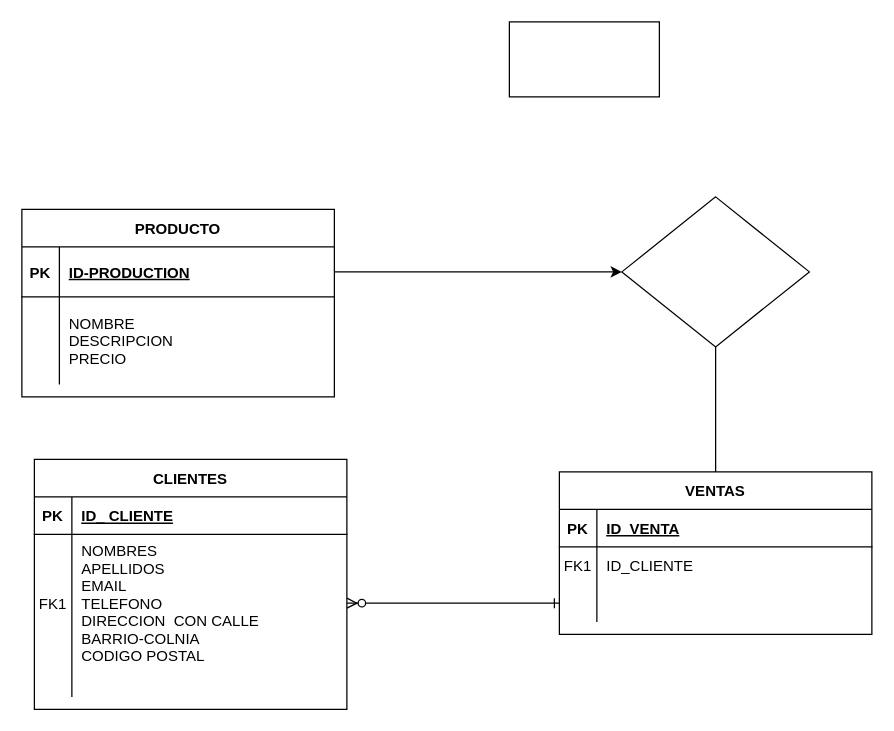
Image size: 894x731. Some labels were removed from this diagram. The box of each missing label's shape, as (x1, y1, x2, y2) in pixels:
ABARROTES: (508, 21, 659, 97)
ID_PRODUCTO ID_VENTAS: (621, 196, 809, 347)
